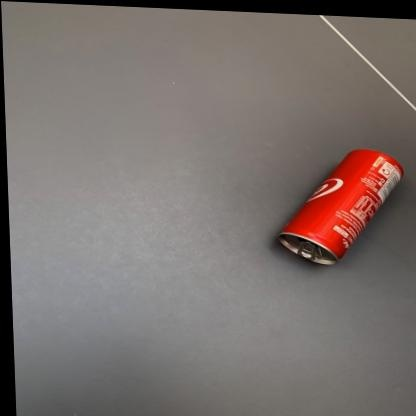trash: (278, 149, 402, 264)
